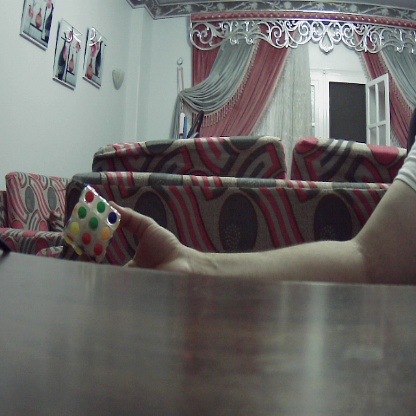Rubix Cube: (63, 187, 121, 258)
